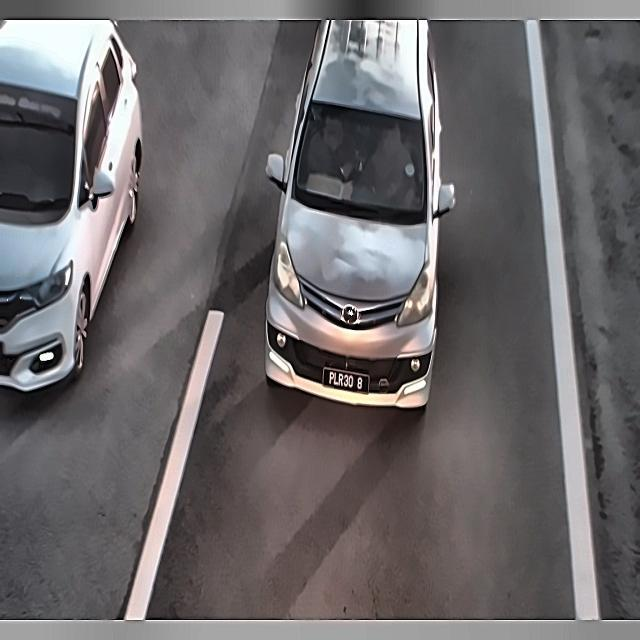car: (320, 361, 374, 399)
